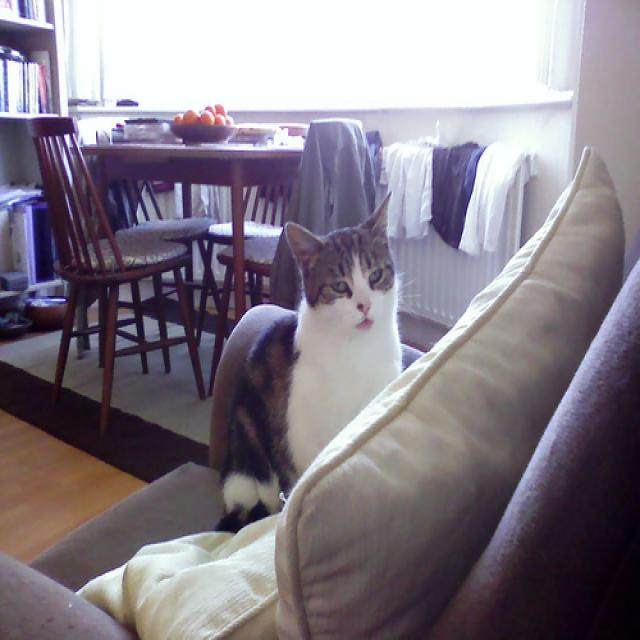cat: (212, 190, 407, 534)
